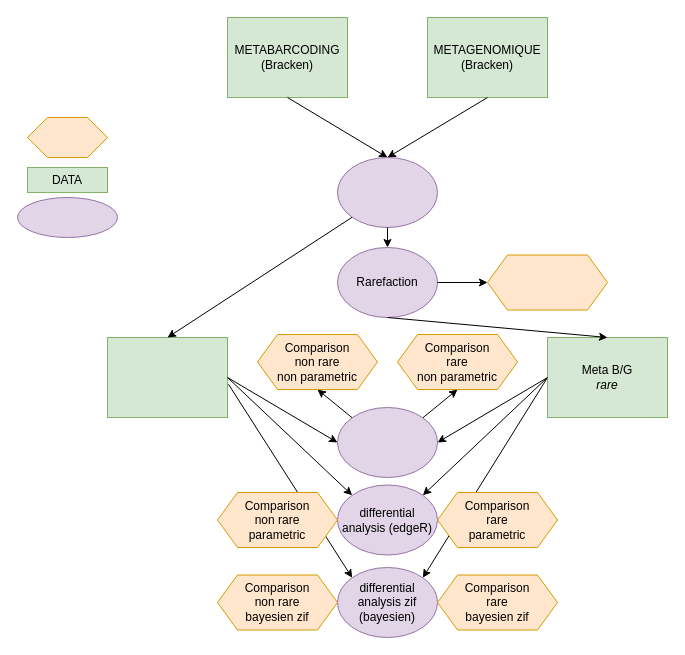
Image size: 685x655. Some labels were removed from this diagram. Each missing label, with the box of its shape:
Decontamination: (336, 156, 438, 228)
Meta B/G non rare: (106, 336, 228, 418)
Model/ transformation: (16, 196, 118, 238)
Resultats/ outputs: (26, 116, 108, 158)
Studie of mean vs var ?: (486, 254, 608, 310)
Wilcox: (336, 406, 438, 478)
